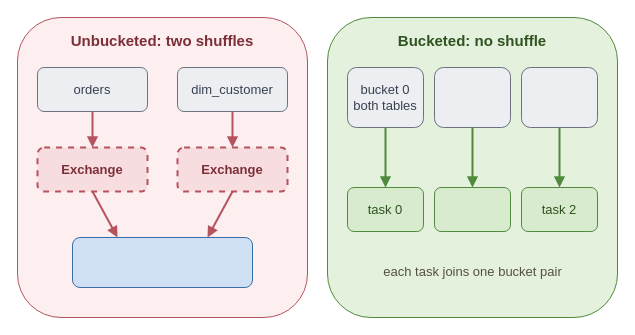
This 635x335 diagram has some shape labels left out. The centre of each missing label's shape, as x and y in pixels:
bucket 1 both tables: (x=472, y=97)
bucket 2 both tables: (x=559, y=97)
SortMergeJoin: (x=162, y=262)
task 1: (x=472, y=209)
